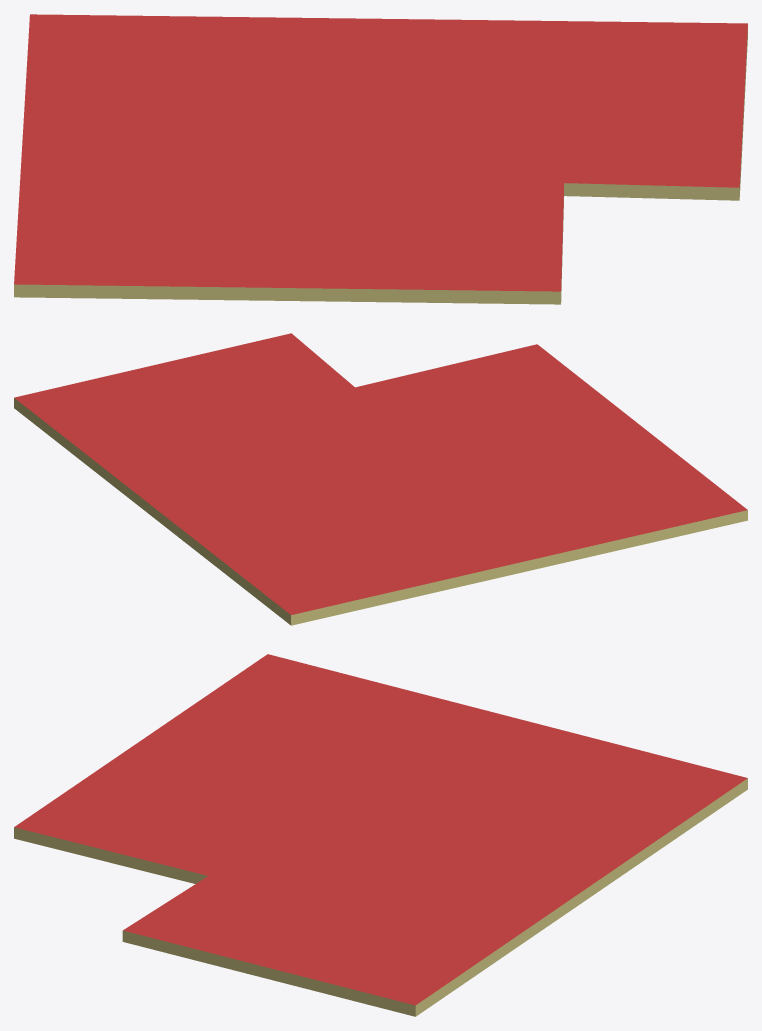
The picture shows the model from 3 angles, top to bottom: view 1: azimuth 30°, elevation 25°; view 2: azimuth 150°, elevation 25°; view 3: azimuth 270°, elevation 25°; orthographic projection. The views are drawn at different scales.
Parts seen in each view (by area): view 1: group_3, group_4; view 2: group_3, group_4; view 3: group_3, group_4.
Part boxes in pixels (x1,y1,x2,y2): group_3: (14, 14, 747, 291); group_4: (14, 27, 747, 304); group_3: (14, 333, 747, 614); group_4: (14, 398, 747, 625); group_3: (14, 654, 747, 1005); group_4: (14, 778, 747, 1016).
Bounding box in the file's own units: 6.6 × 5.83 × 0.1.
